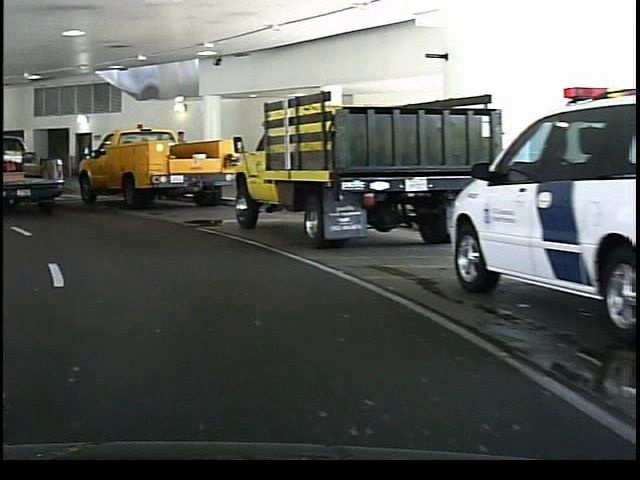person: (173, 126, 186, 144)
